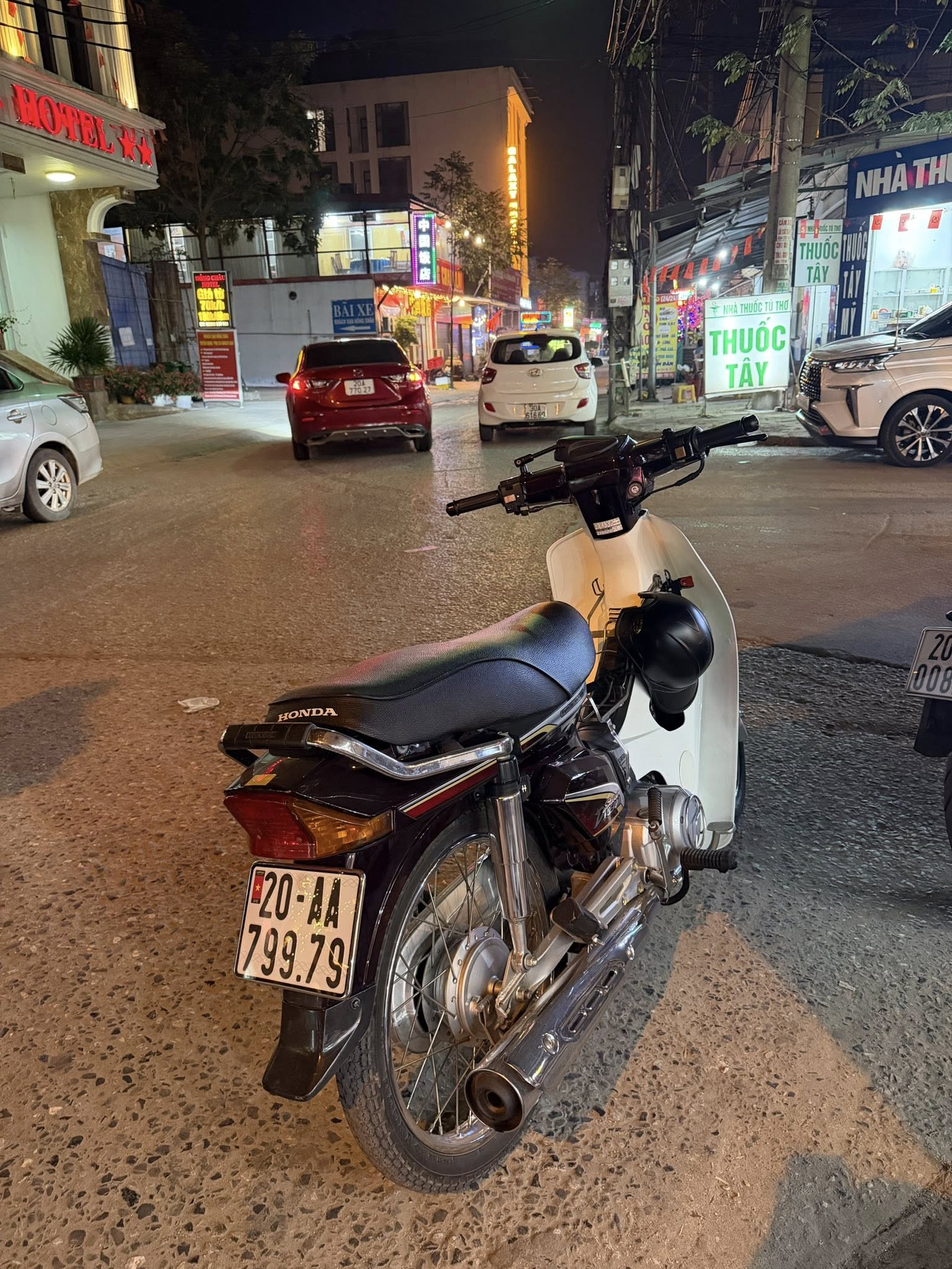bien_so: (230, 856, 381, 1006)
